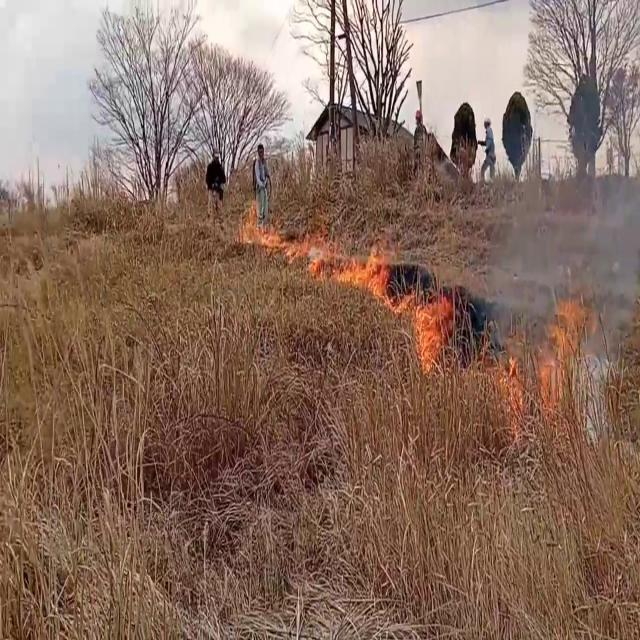Fire: (504, 291, 594, 410), (238, 192, 341, 292), (401, 276, 451, 374), (337, 238, 392, 309)
Smoke: (488, 105, 640, 358)
